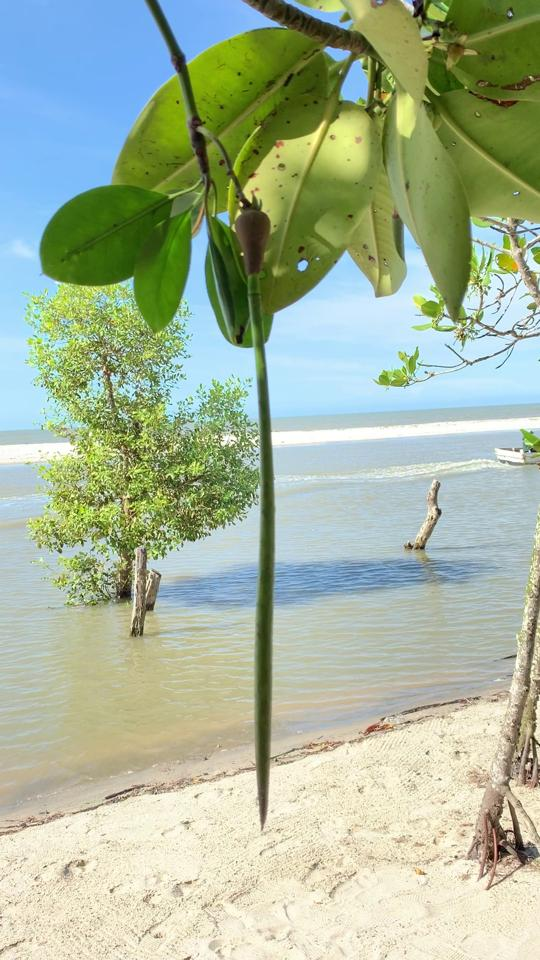setengah matang: (226, 179, 293, 838)
